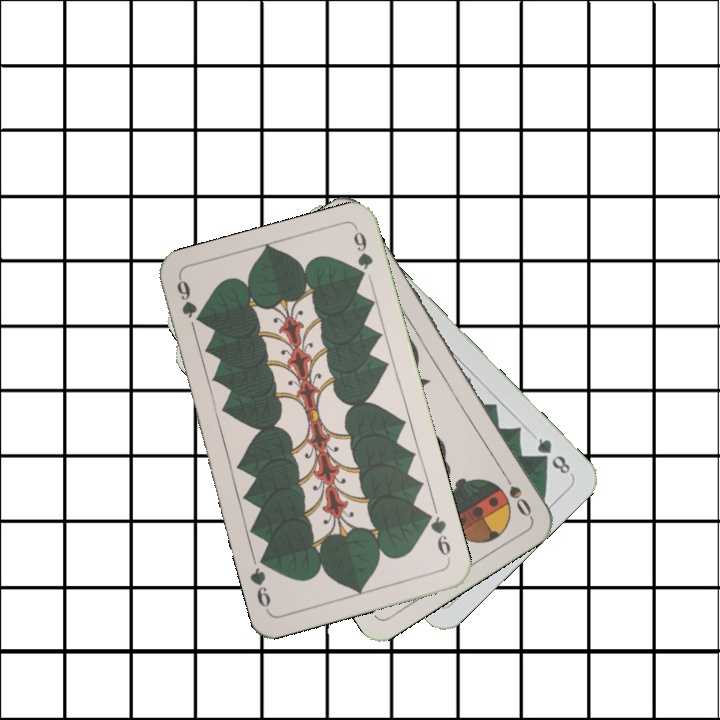G8: (532, 434, 573, 477)
G9: (421, 508, 454, 563), (172, 275, 204, 326)
SO: (497, 466, 534, 520)
